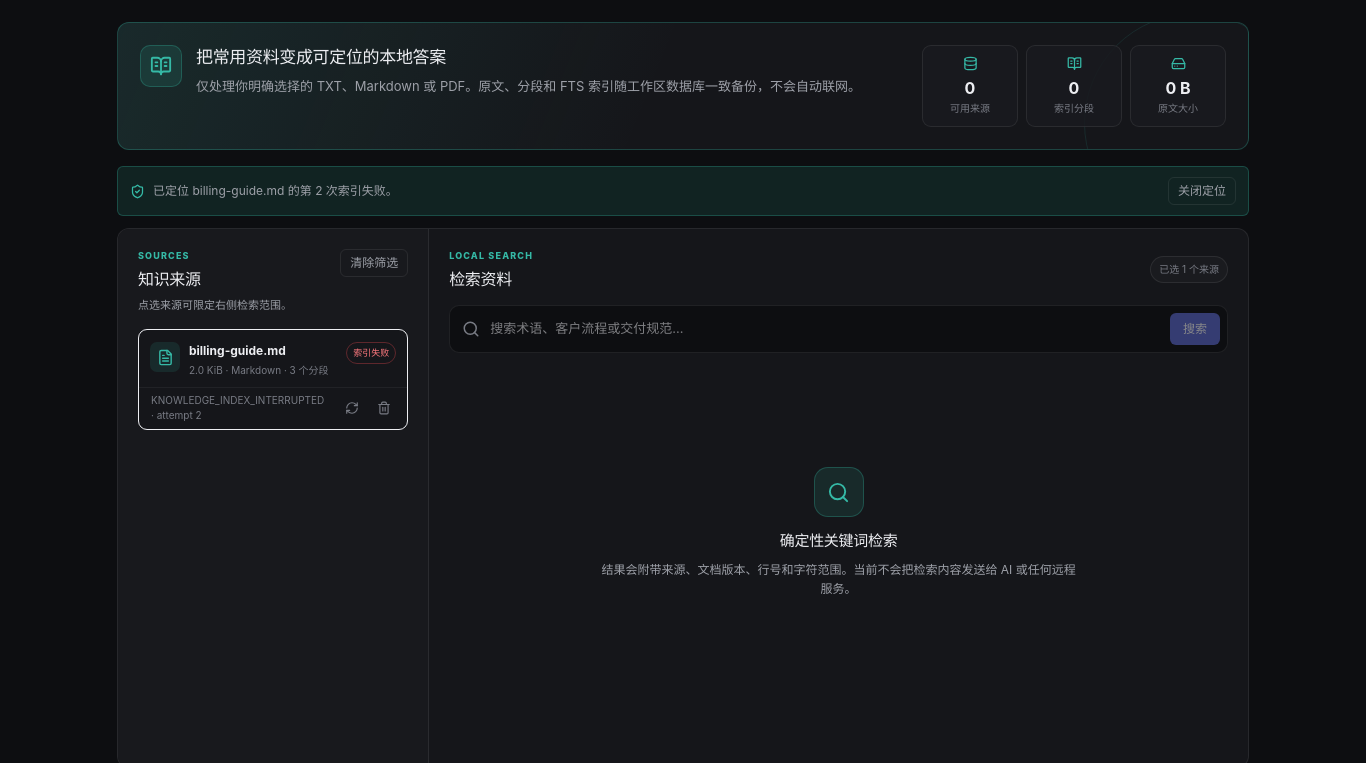
Test: KnowledgeBasePage › locates the exact current failed index job from Agent Inbox
(page scrolled)
Expected: the text "已定位 billing-guide.md 的第 2 次索引失败。" is shown, [153, 182, 398, 200]
Click the button "关闭定位". click: {"x": 1202, "y": 191}
box: [1168, 177, 1236, 205]
(page scrolled)
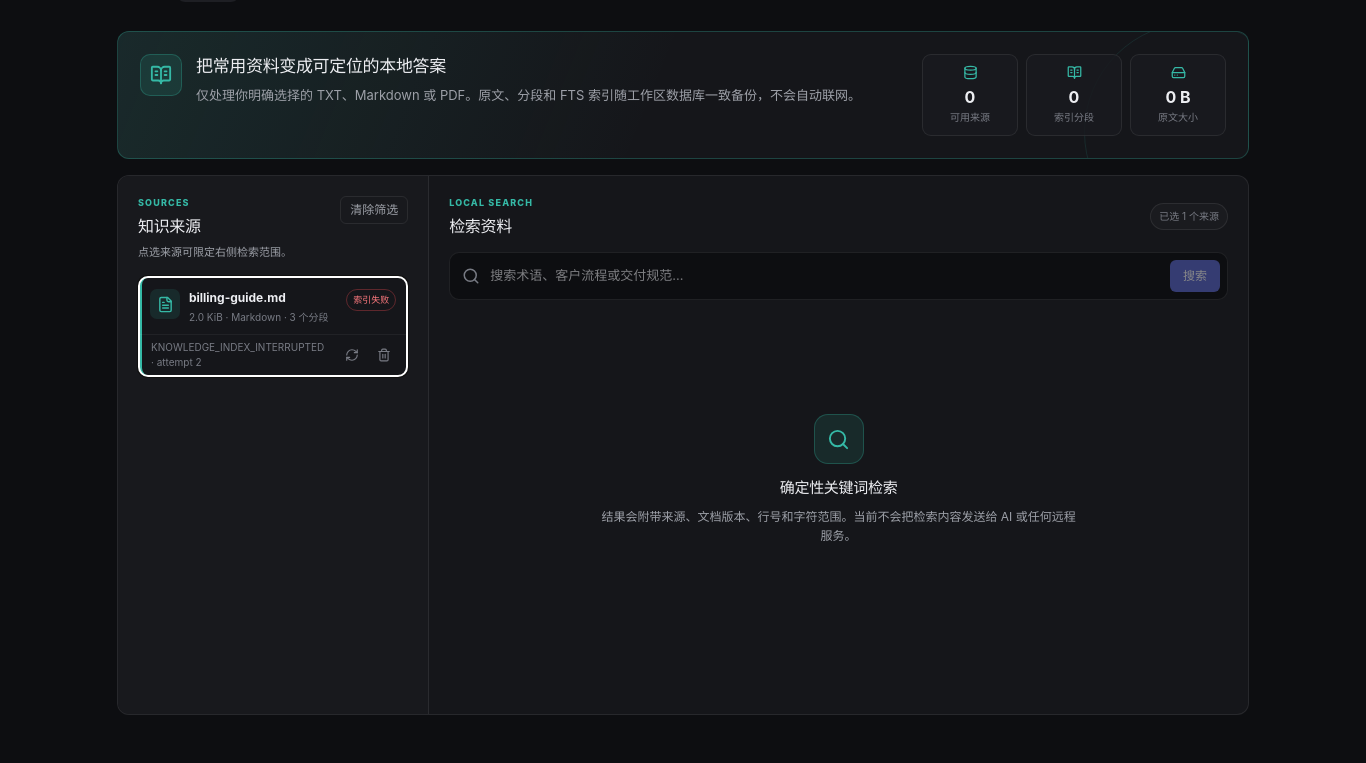
Expected: the text "已定位 billing-guide.md" is gone
